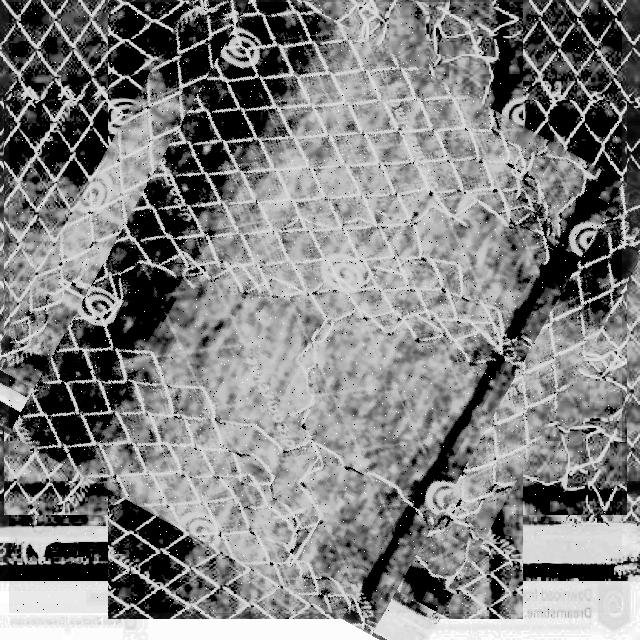anomaly-fence: (9, 2, 622, 613)
